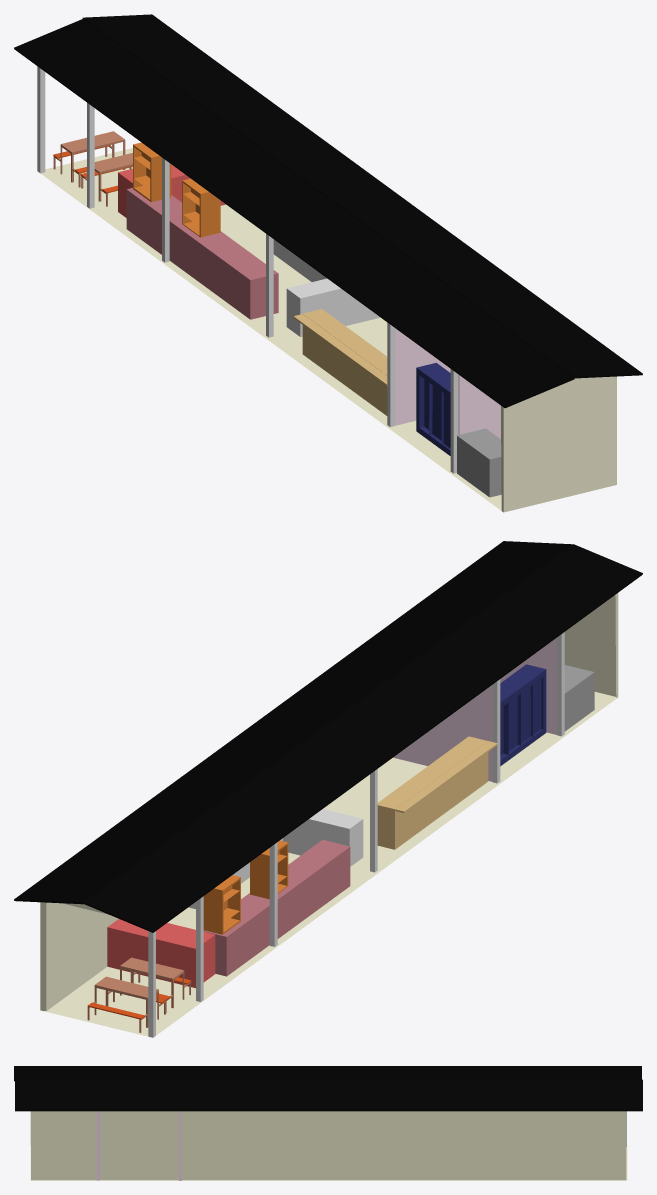
Rendered from College Canteen.fbx.
The picture shows the model from 3 angles, top to bottom: view 1: azimuth 30°, elevation 25°; view 2: azimuth 150°, elevation 25°; view 3: azimuth 270°, elevation 25°; orthographic projection. The views are drawn at different scales.
Visible parts, largest first — view 1: Plane.001, Plane, Cube, Cube.008, Cube.012, Cube.017, Cube.013, Cube.014, Cube.009, Cube.011, Cube.040, Cube.041 (+9 smaller); view 2: Plane.001, Plane, Cube, Cube.008, Cube.012, Cube.007, Cube.013, Cube.009, Cube.017, Cube.041, Cube.014, Cube.011 (+9 smaller); view 3: Cube, Plane, Plane.001, Cube.011, Cube.009.
Boxes of the visible parts, left/top/right/bottom form: Plane.001: left=14, top=18, right=574, bottom=408; Plane: left=82, top=14, right=642, bottom=378; Cube: left=40, top=148, right=616, bottom=512; Cube.008: left=126, top=188, right=278, bottom=319; Cube.012: left=293, top=309, right=387, bottom=415; Cube.017: left=286, top=278, right=380, bottom=336; Cube.013: left=416, top=362, right=450, bottom=455; Cube.014: left=457, top=428, right=501, bottom=497; Cube.009: left=395, top=328, right=450, bottom=425; Cube.011: left=458, top=375, right=500, bottom=439; Cube.040: left=182, top=178, right=220, bottom=237; Cube.041: left=133, top=142, right=171, bottom=202; Plane.001: left=84, top=544, right=642, bottom=932; Plane: left=14, top=541, right=572, bottom=904; Cube: left=40, top=593, right=618, bottom=1036; Cube.008: left=203, top=840, right=350, bottom=976; Cube.012: left=377, top=736, right=497, bottom=849; Cube.007: left=107, top=919, right=215, bottom=988; Cube.013: left=500, top=664, right=546, bottom=766; Cube.009: left=393, top=685, right=492, bottom=781; Cube.017: left=283, top=809, right=363, bottom=866; Cube.041: left=203, top=875, right=240, bottom=934; Cube.014: left=564, top=665, right=594, bottom=731; Cube.011: left=500, top=637, right=556, bottom=734; Cube: left=30, top=1111, right=627, bottom=1180; Plane: left=15, top=1079, right=642, bottom=1111; Plane.001: left=14, top=1066, right=641, bottom=1081; Cube.011: left=96, top=1111, right=99, bottom=1180; Cube.009: left=179, top=1111, right=181, bottom=1180.
Bounding box in the file's own units: 246 × 222 × 1504.
